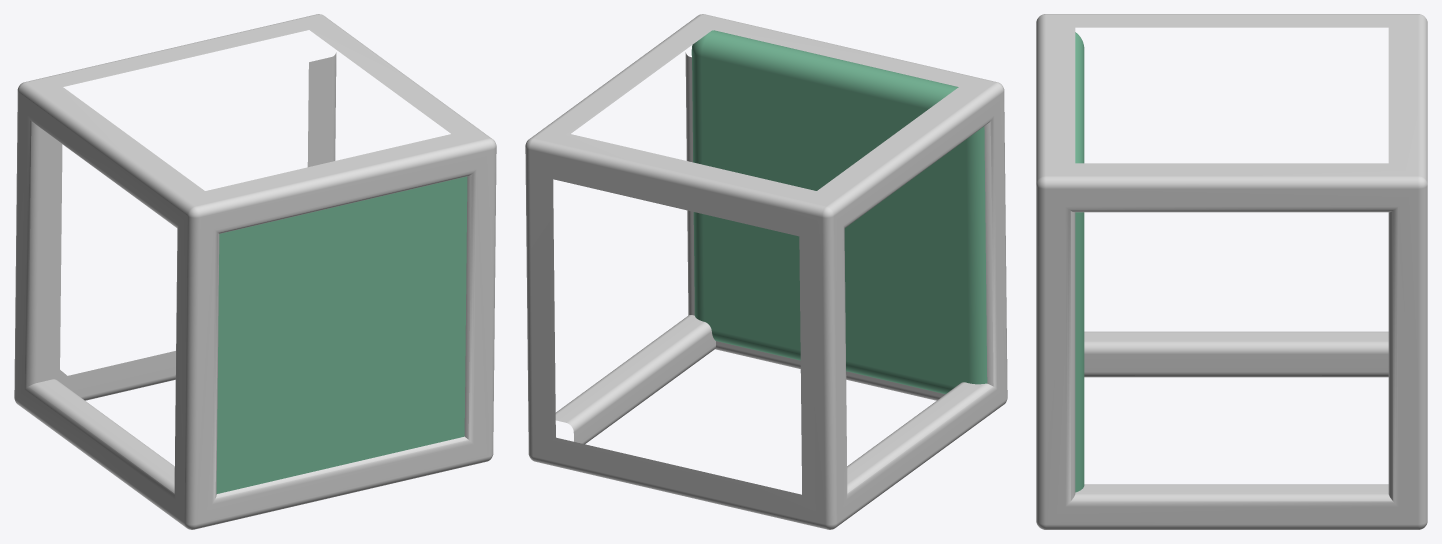
Rendered from GreenCube.glb.
3 renders of one model, left to right at view 1: azimuth 30°, elevation 25°; view 2: azimuth 150°, elevation 25°; view 3: azimuth 270°, elevation 25°, orthographic. The views are drawn at different scales.
Parts seen in each view (by area): view 1: Box, Box 1; view 2: Box, Box 1; view 3: Box, Box 1.
Boxes of the visible parts, box(x1,y1,x2,y2) form: Box: box(14, 14, 496, 529); Box 1: box(216, 176, 467, 493); Box: box(525, 14, 1007, 529); Box 1: box(691, 30, 987, 394); Box: box(1036, 14, 1427, 529); Box 1: box(1075, 32, 1084, 492).
Bounding box in the file's own units: 0.1011 × 0.1011 × 0.1.
